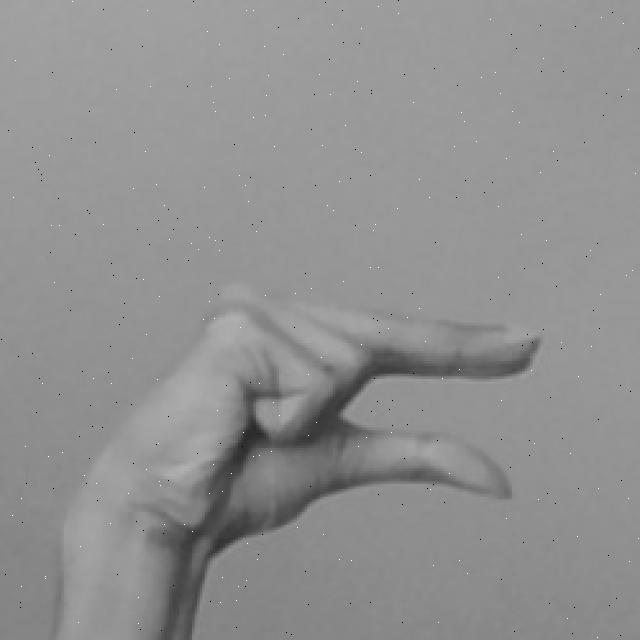G: (51, 276, 540, 640)
